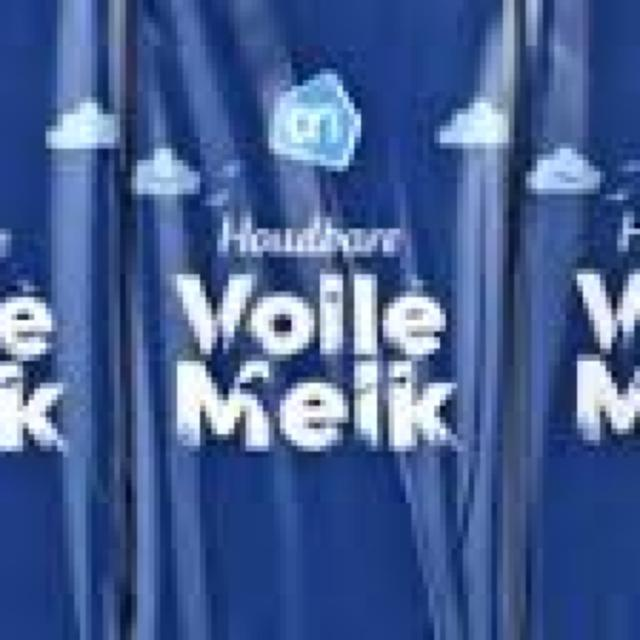milk: (120, 0, 526, 640), (508, 0, 640, 640), (0, 0, 131, 640)
